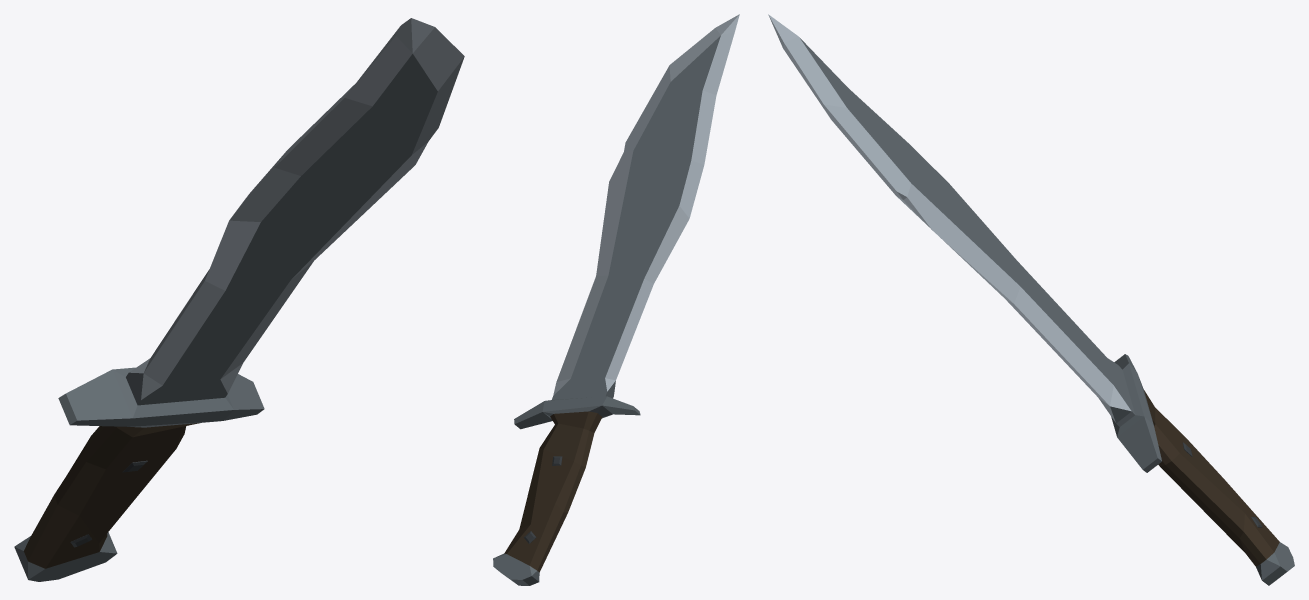
File: fk-knife-02.glb
3 views of the same model, side by side, from view 1: azimuth 30°, elevation 25°; view 2: azimuth 150°, elevation 25°; view 3: azimuth 270°, elevation 25° (orthographic). The views are drawn at different scales.
Parts seen in each view (by area): view 1: fk-knife-02; view 2: fk-knife-02; view 3: fk-knife-02.
Boxes of the visible parts, box(x1,y1,x2,y2) form: fk-knife-02: box(14, 18, 464, 581); fk-knife-02: box(493, 14, 739, 585); fk-knife-02: box(768, 14, 1294, 585).
Bounding box in the file's own units: 0.1674 × 0.6324 × 0.5469.
Materials: 1 (1 with a texture image).
